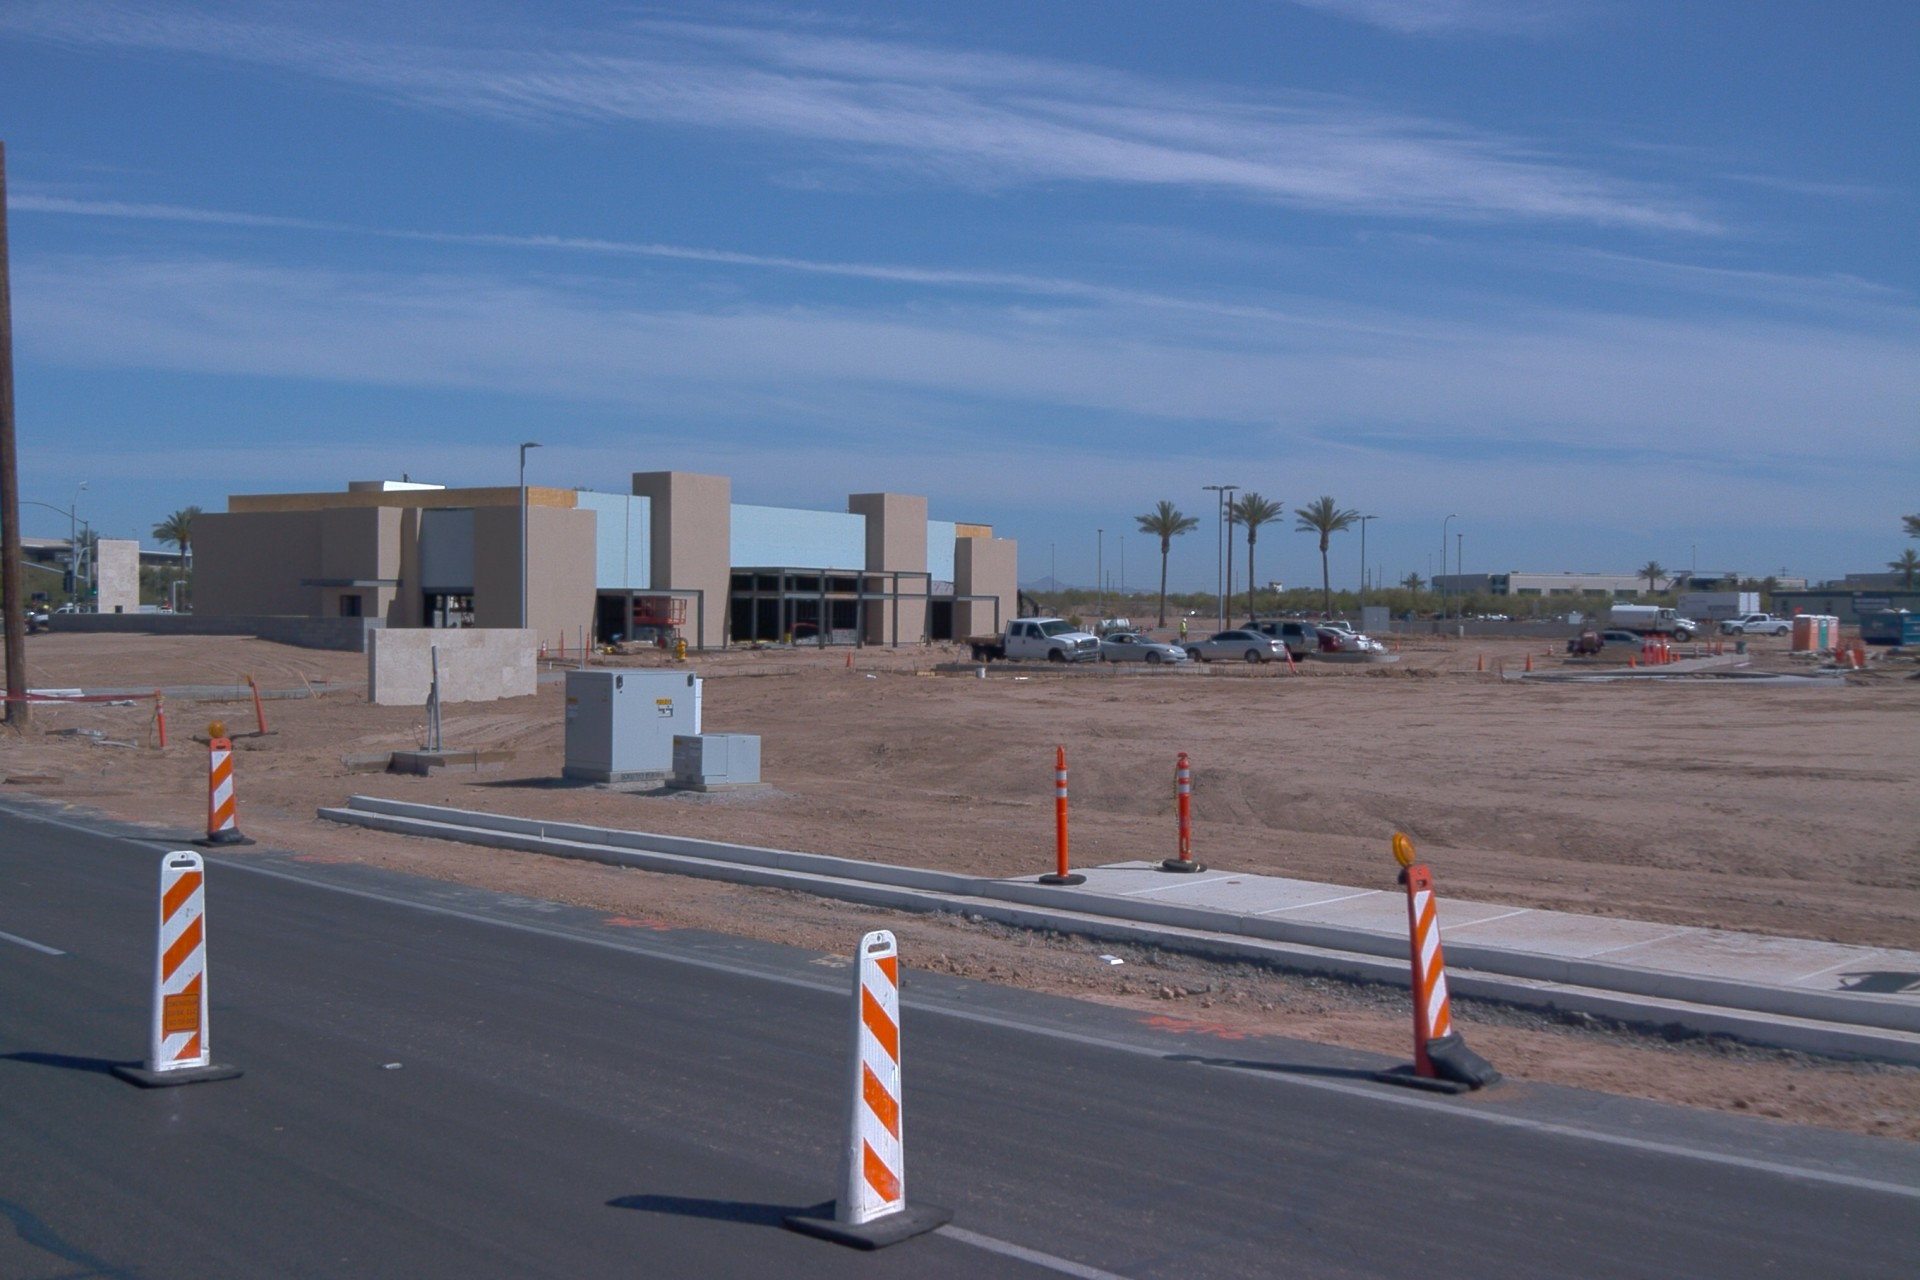TYPE_PEDESTRIAN: (1178, 612, 1192, 645), (1318, 623, 1327, 632)
TYPE_VEHICLE: (956, 616, 1104, 665), (1234, 616, 1324, 665), (1180, 626, 1288, 664), (1604, 604, 1698, 644), (1097, 628, 1188, 661), (1576, 629, 1674, 652), (1717, 615, 1792, 638), (1321, 628, 1372, 653), (1314, 624, 1348, 657), (1094, 617, 1141, 637), (35, 607, 79, 627), (1320, 621, 1359, 634), (1485, 611, 1509, 623), (1369, 634, 1386, 649), (42, 599, 56, 616), (1568, 635, 1581, 653), (161, 603, 174, 615), (1476, 613, 1486, 621)
